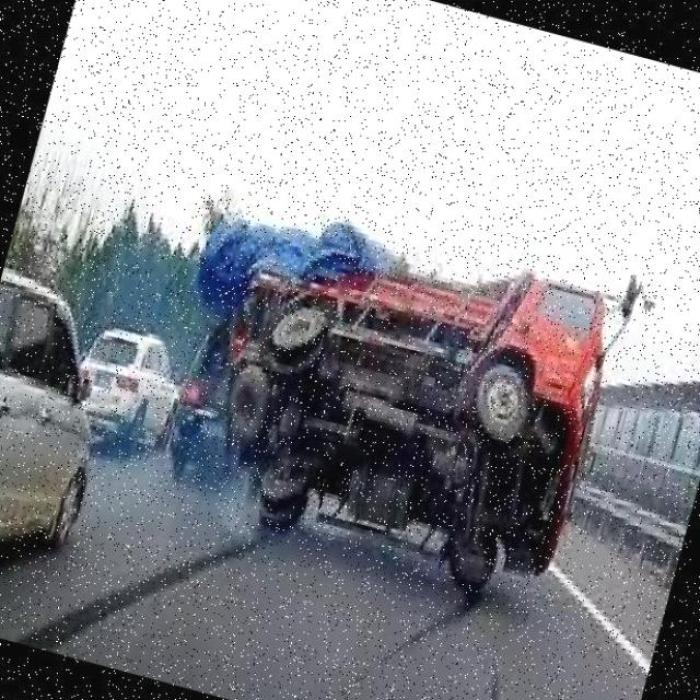Accident: (119, 178, 690, 661)
